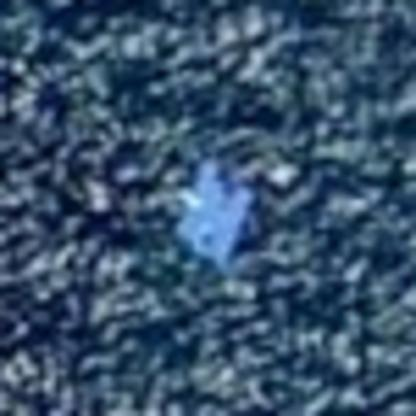ship: (162, 148, 265, 274)
